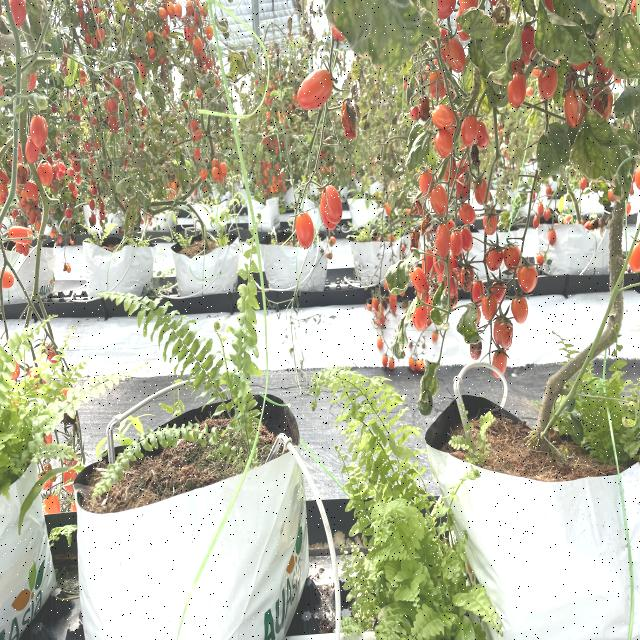Soilbag: (77, 387, 321, 639), (412, 392, 640, 640), (4, 445, 61, 640)
plant: (375, 15, 638, 451)
